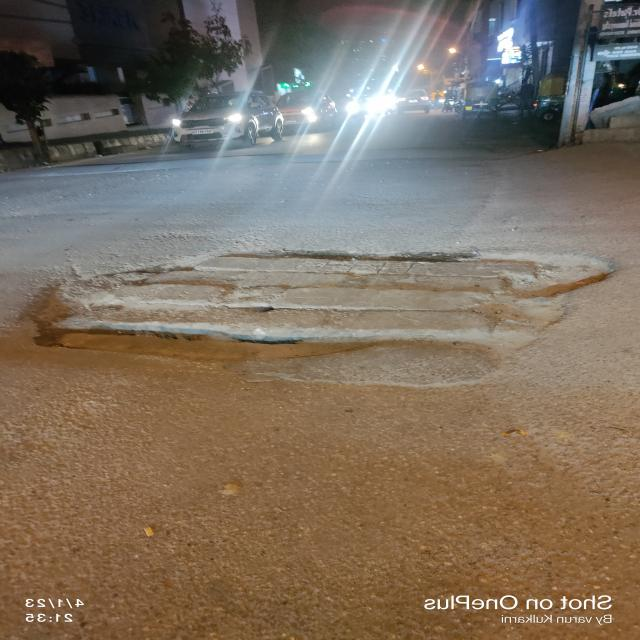potholes: (21, 234, 618, 386)
